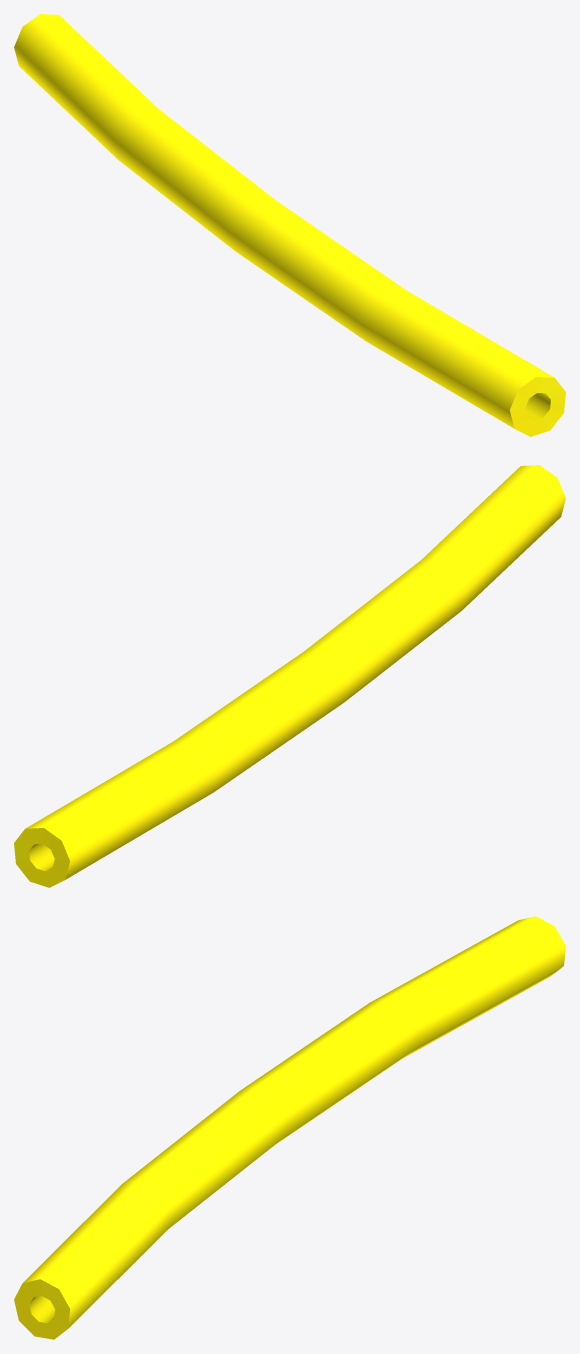
Rendered from PoolNoodleYellow.glb.
3 renders of one model, top to bottom at view 1: azimuth 30°, elevation 25°; view 2: azimuth 150°, elevation 25°; view 3: azimuth 330°, elevation 25°, orthographic.
Visible parts, largest first — view 1: PoolNoodleYellow; view 2: PoolNoodleYellow; view 3: PoolNoodleYellow.
Part boxes in pixels (bbox=[...]): PoolNoodleYellow: bbox=[14, 14, 565, 436]; PoolNoodleYellow: bbox=[14, 465, 565, 887]; PoolNoodleYellow: bbox=[14, 916, 565, 1339].
Bounding box in the file's own units: 0.2596 × 0.1766 × 2.56.
Materials: 1 (1 with a texture image).
